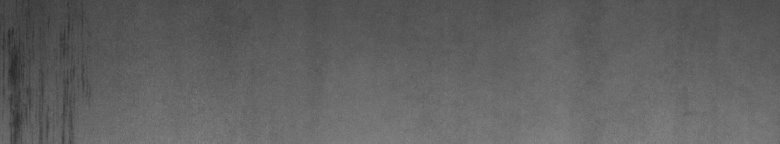ka: (4, 16, 88, 136)
